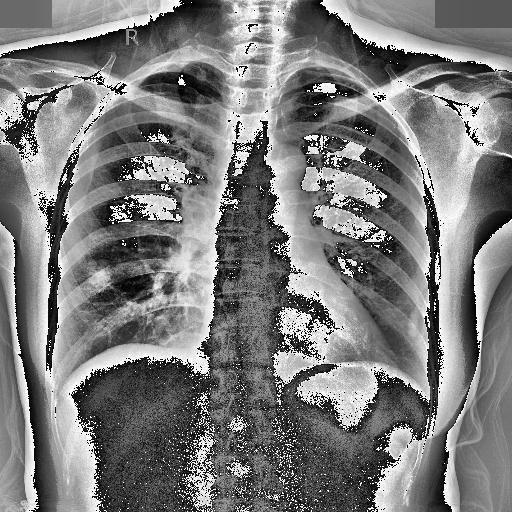11- Pleural thickening: (312, 66, 322, 70)
13- Pulmonary fibrosis: (409, 306, 418, 342)
2- Calcification: (409, 306, 418, 342)
3- Cardiomegaly: (194, 316, 398, 374)
7- Lung Opacity: (83, 260, 113, 292), (404, 304, 422, 336)
8- Nodule-Mass: (84, 260, 112, 288), (86, 260, 110, 288)
9- Other lesion: (408, 306, 418, 338)
